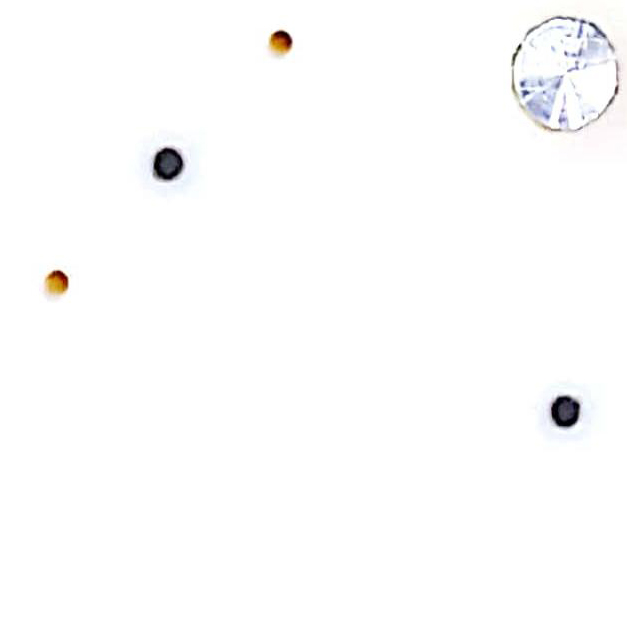abnormal: (499, 10, 627, 144)
cancer: (131, 132, 213, 206), (531, 373, 609, 444)
normal: (237, 18, 310, 78), (22, 260, 99, 316)
